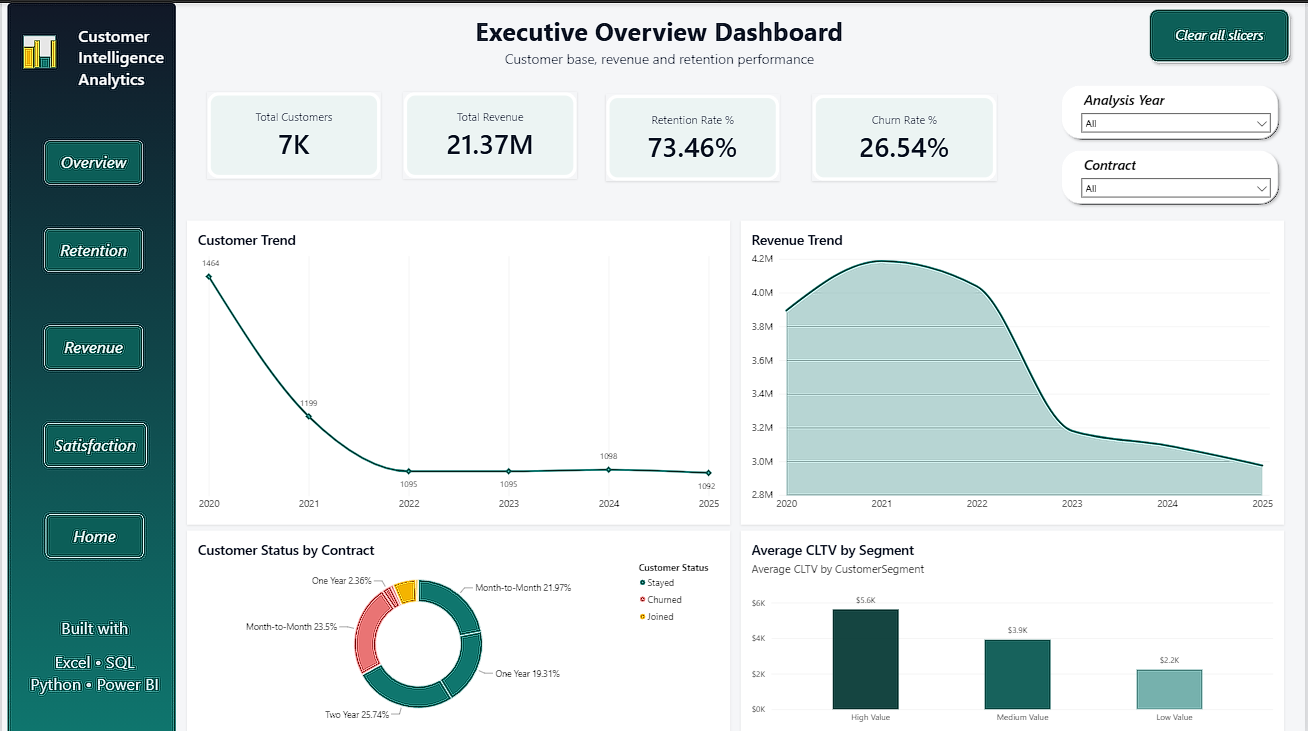

What the dashboard file says about the page in this screenshot:
{"tool":"powerbi","page":{"name":"Overview Dashboard","canvas":[1920,1080],"ordinal":1},"visuals":[{"type":"shape","box":[32,48,48,48],"z":0,"group":"g1"},{"type":"shape","box":[1552,208,336,96],"z":0},{"type":"shape","box":[1552,112,336,96],"z":1000},{"type":"image","box":[0,0,264,1080],"z":2000},{"type":"group","id":"g1","title":"Group 1","box":[32,48,48,48],"z":3000},{"type":"textbox","box":[112,32,128,112],"z":4000},{"type":"textbox","box":[16,904,240,176],"z":5000},{"type":"textbox","title":"Executive Overview Dashboard","box":[256,16,1424,80],"z":6000},{"type":"cardVisual","fields":{"Data":["_Measures.Total Customers"]},"box":[302.6,130.2,256,128],"z":7000},{"type":"cardVisual","fields":{"Data":["_Measures.Total Revenue"]},"box":[590.6,130.2,256,128],"z":8000},{"type":"cardVisual","fields":{"Data":["_Measures.Retention Rate %"]},"box":[888.7,133.9,256,128],"z":9000},{"type":"shape","box":[32,64,16,32],"z":10000,"group":"g1"},{"type":"cardVisual","fields":{"Data":["_Measures.Churn Rate %"]},"box":[1192.7,133.9,272,128],"z":10000},{"type":"shape","box":[56,80,16,16],"z":11000,"group":"g1"},{"type":"slicer","fields":{"Values":["DimDate.Year"]},"box":[1584,128,288,64],"z":11000},{"type":"shape","box":[72,56,8,40],"z":12000,"group":"g1"},{"type":"slicer","fields":{"Values":["FactRetention.CustomerSegment"]},"box":[1584,224,288,64],"z":12000},{"type":"actionButton","box":[1680,0,224,96],"z":13000},{"type":"shape","box":[48,56,8,40],"z":13000,"group":"g1"},{"type":"lineChart","title":"Customer Trend","fields":{"Y":["_Measures.Total Customers"],"Category":["DimDate.Year"]},"box":[272,320,800,448],"z":14000},{"type":"areaChart","title":"Revenue Trend","fields":{"Y":["_Measures.Total Revenue"],"Category":["DimDate.Year"]},"box":[1088,320,800,448],"z":15000},{"type":"donutChart","title":"Customer Status by Contract","fields":{"Category":["FactRetention.Customer Status"],"Y":["CountNonNull(DimCustomer.Customer ID)"],"Series":["DimSubscription.Contract"]},"box":[272,776,800,304],"z":16000},{"type":"clusteredColumnChart","title":"Average CLTV by Segment","fields":{"Y":["_Measures.Average CLTV"],"Category":["FactRetention.CustomerSegment"]},"box":[1088,776,800,304],"z":17000},{"type":"actionButton","box":[62.3,203.3,145,65],"z":18000},{"type":"actionButton","box":[62.3,331.3,145,65],"z":19000},{"type":"actionButton","box":[62.3,475.3,145,65],"z":20000},{"type":"actionButton","box":[62.3,619.3,150,65],"z":21000},{"type":"actionButton","box":[64,752,144,64],"z":22000}]}

Visuals, with their boxes on the page's 1920x1080 design canvas (x1, y1, x2, y2). These are canvas units, not pixel positions in the 1308x731 screenshot, which may show the page scaled, cropped or inside an application window:
shape: l=32, t=48, r=80, b=96
shape: l=1552, t=208, r=1888, b=304
shape: l=1552, t=112, r=1888, b=208
image: l=0, t=0, r=264, b=1080
"Group 1" group: l=32, t=48, r=80, b=96
textbox: l=112, t=32, r=240, b=144
textbox: l=16, t=904, r=256, b=1080
"Executive Overview Dashboard" textbox: l=256, t=16, r=1680, b=96
cardVisual - _Measures.Total Customers: l=303, t=130, r=559, b=258
cardVisual - _Measures.Total Revenue: l=591, t=130, r=847, b=258
cardVisual - _Measures.Retention Rate %: l=889, t=134, r=1145, b=262
shape: l=32, t=64, r=48, b=96
cardVisual - _Measures.Churn Rate %: l=1193, t=134, r=1465, b=262
shape: l=56, t=80, r=72, b=96
slicer - DimDate.Year: l=1584, t=128, r=1872, b=192
shape: l=72, t=56, r=80, b=96
slicer - FactRetention.CustomerSegment: l=1584, t=224, r=1872, b=288
actionButton: l=1680, t=0, r=1904, b=96
shape: l=48, t=56, r=56, b=96
"Customer Trend" lineChart: l=272, t=320, r=1072, b=768
"Revenue Trend" areaChart: l=1088, t=320, r=1888, b=768
"Customer Status by Contract" donutChart: l=272, t=776, r=1072, b=1080
"Average CLTV by Segment" clusteredColumnChart: l=1088, t=776, r=1888, b=1080
actionButton: l=62, t=203, r=207, b=268
actionButton: l=62, t=331, r=207, b=396
actionButton: l=62, t=475, r=207, b=540
actionButton: l=62, t=619, r=212, b=684
actionButton: l=64, t=752, r=208, b=816
